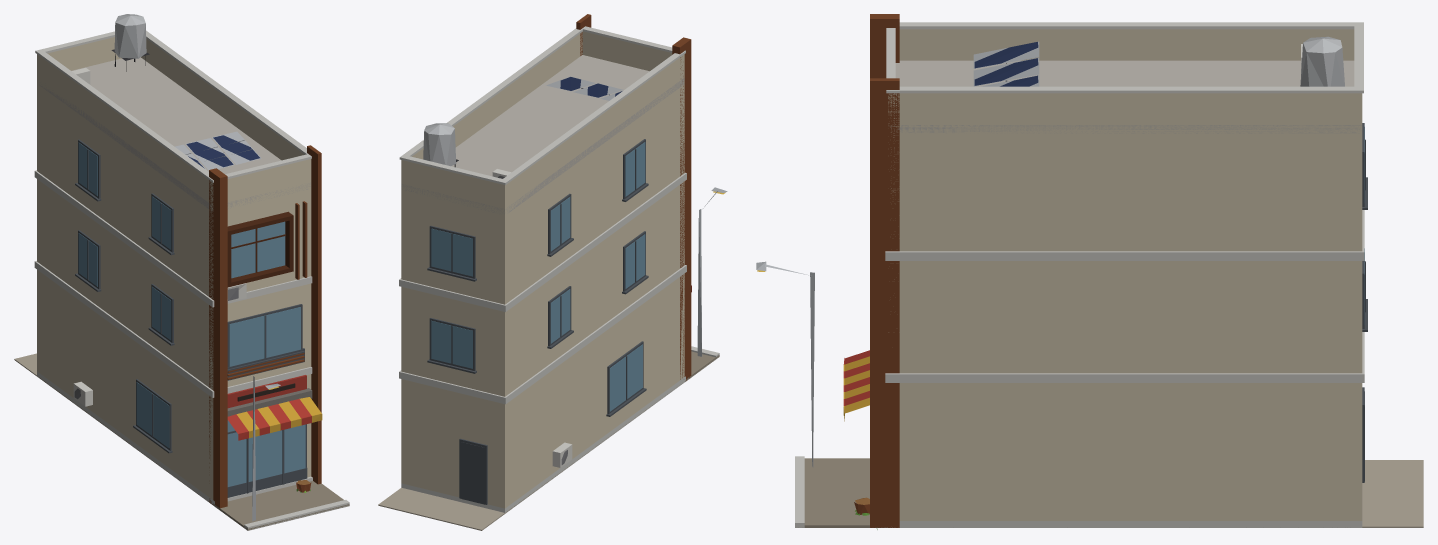
Rendered from bay1_left.glb.
The picture shows the model from 3 angles, left to right: view 1: azimuth 30°, elevation 25°; view 2: azimuth 150°, elevation 25°; view 3: azimuth 270°, elevation 25°; orthographic projection. The views are drawn at different scales.
Visible parts, largest first — view 1: body; view 2: body; view 3: body.
Part boxes in pixels (x1,y1,x2,y2): body: [14, 14, 349, 530]; body: [378, 14, 727, 530]; body: [756, 14, 1423, 529].
Size of the model in its own units: 4.42 by 13.6 by 16.88.
